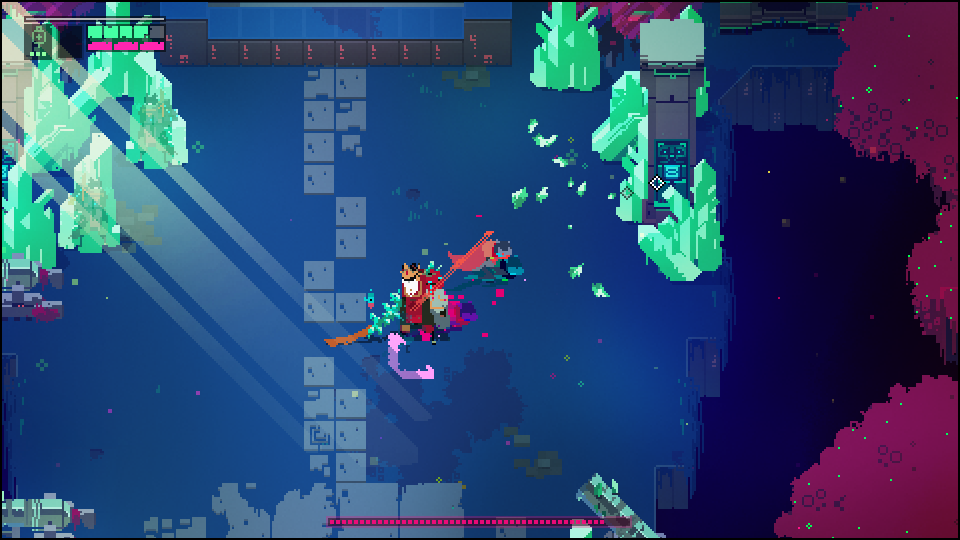hanged_man: (365, 258, 451, 357)
player: (453, 233, 516, 289)
